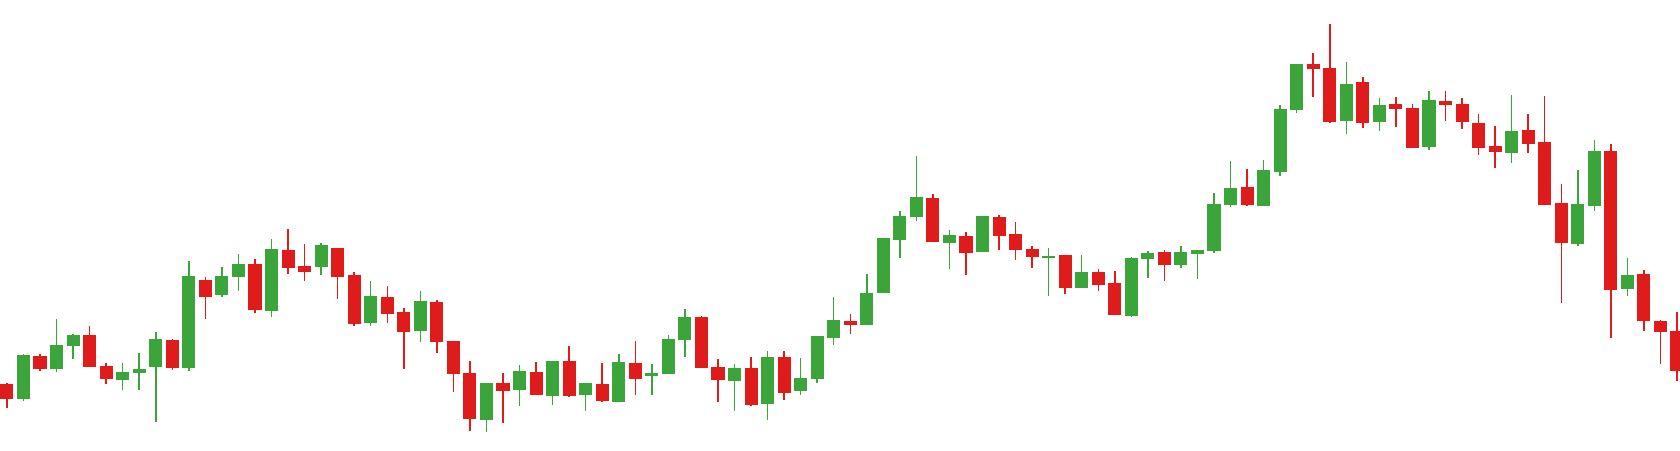buy: (1, 340, 164, 425)
